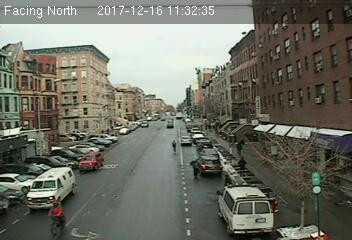bicycle: (46, 199, 71, 236), (170, 139, 178, 154)
car: (78, 152, 104, 170), (198, 154, 221, 172), (180, 137, 192, 146)
pedestrian: (238, 156, 247, 179)
police: (215, 184, 278, 235)
truck: (28, 166, 74, 207)
